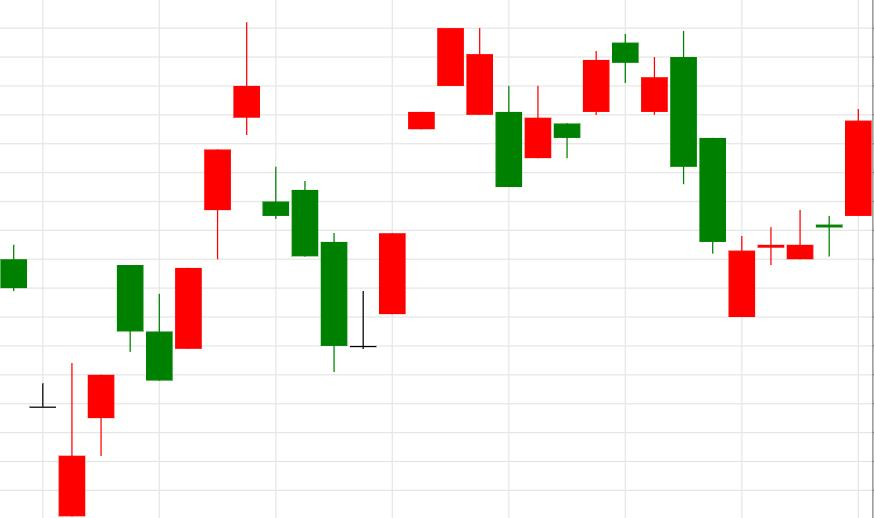shooting_star_fall: (146, 22, 259, 381)
